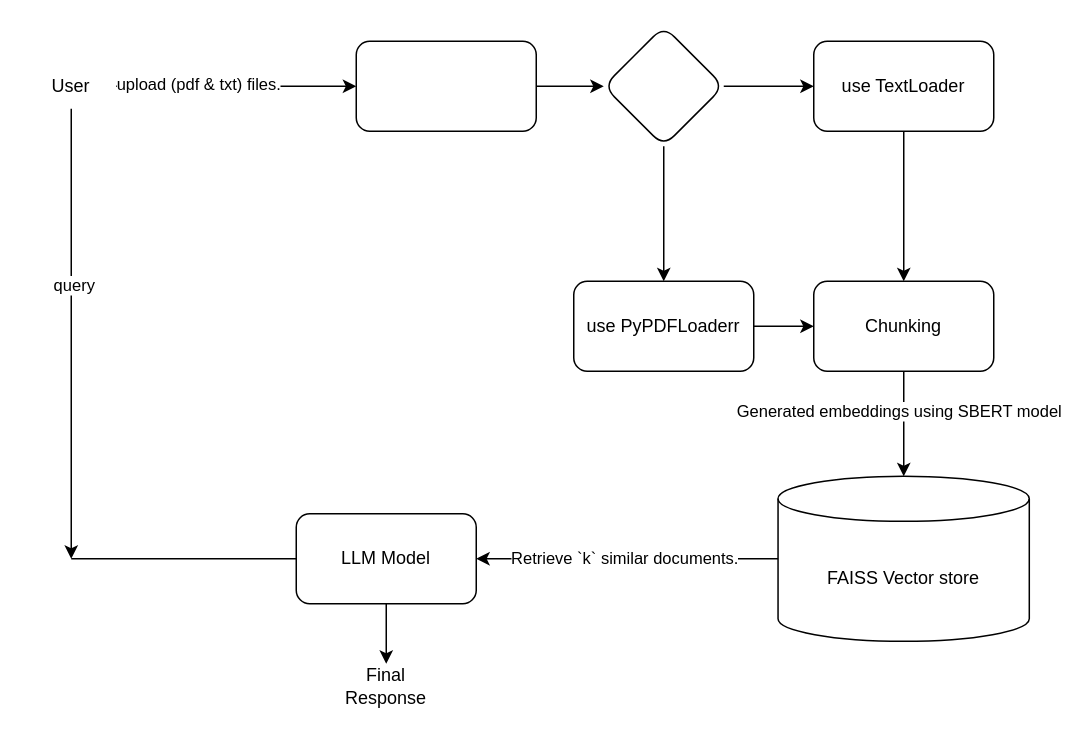
The diagram is 1086 pixels wide and 735 high, and some of its shapes have lost their labels. Here are the shapes that lost their labels. From the top down, the centre of each, then its label:
At point 445,85: "Server".
At point 663,85: "If PDF".
